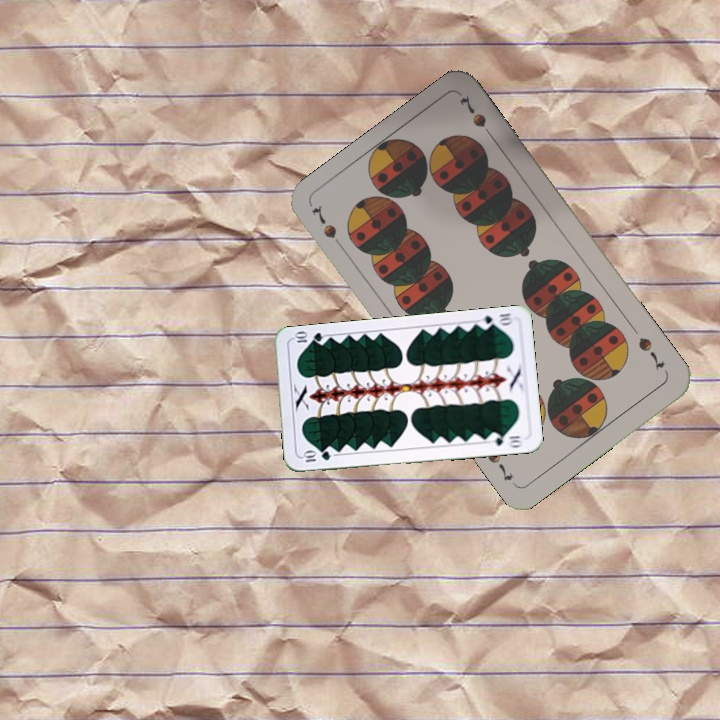G10: (475, 309, 516, 331), (298, 447, 333, 465)
S7: (307, 200, 348, 253), (634, 333, 668, 372)
